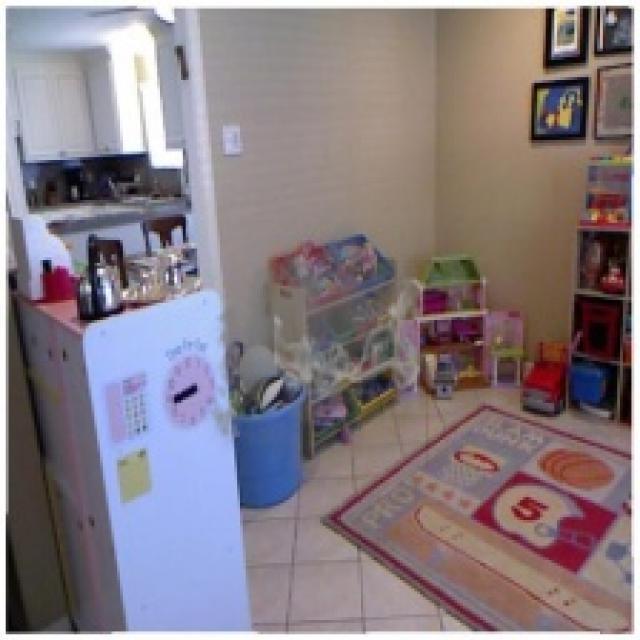smoke: (203, 208, 428, 468)
